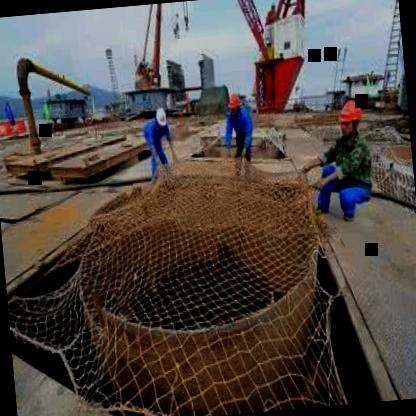helmet: (335, 98, 367, 138), (152, 106, 170, 132), (228, 92, 244, 119)
